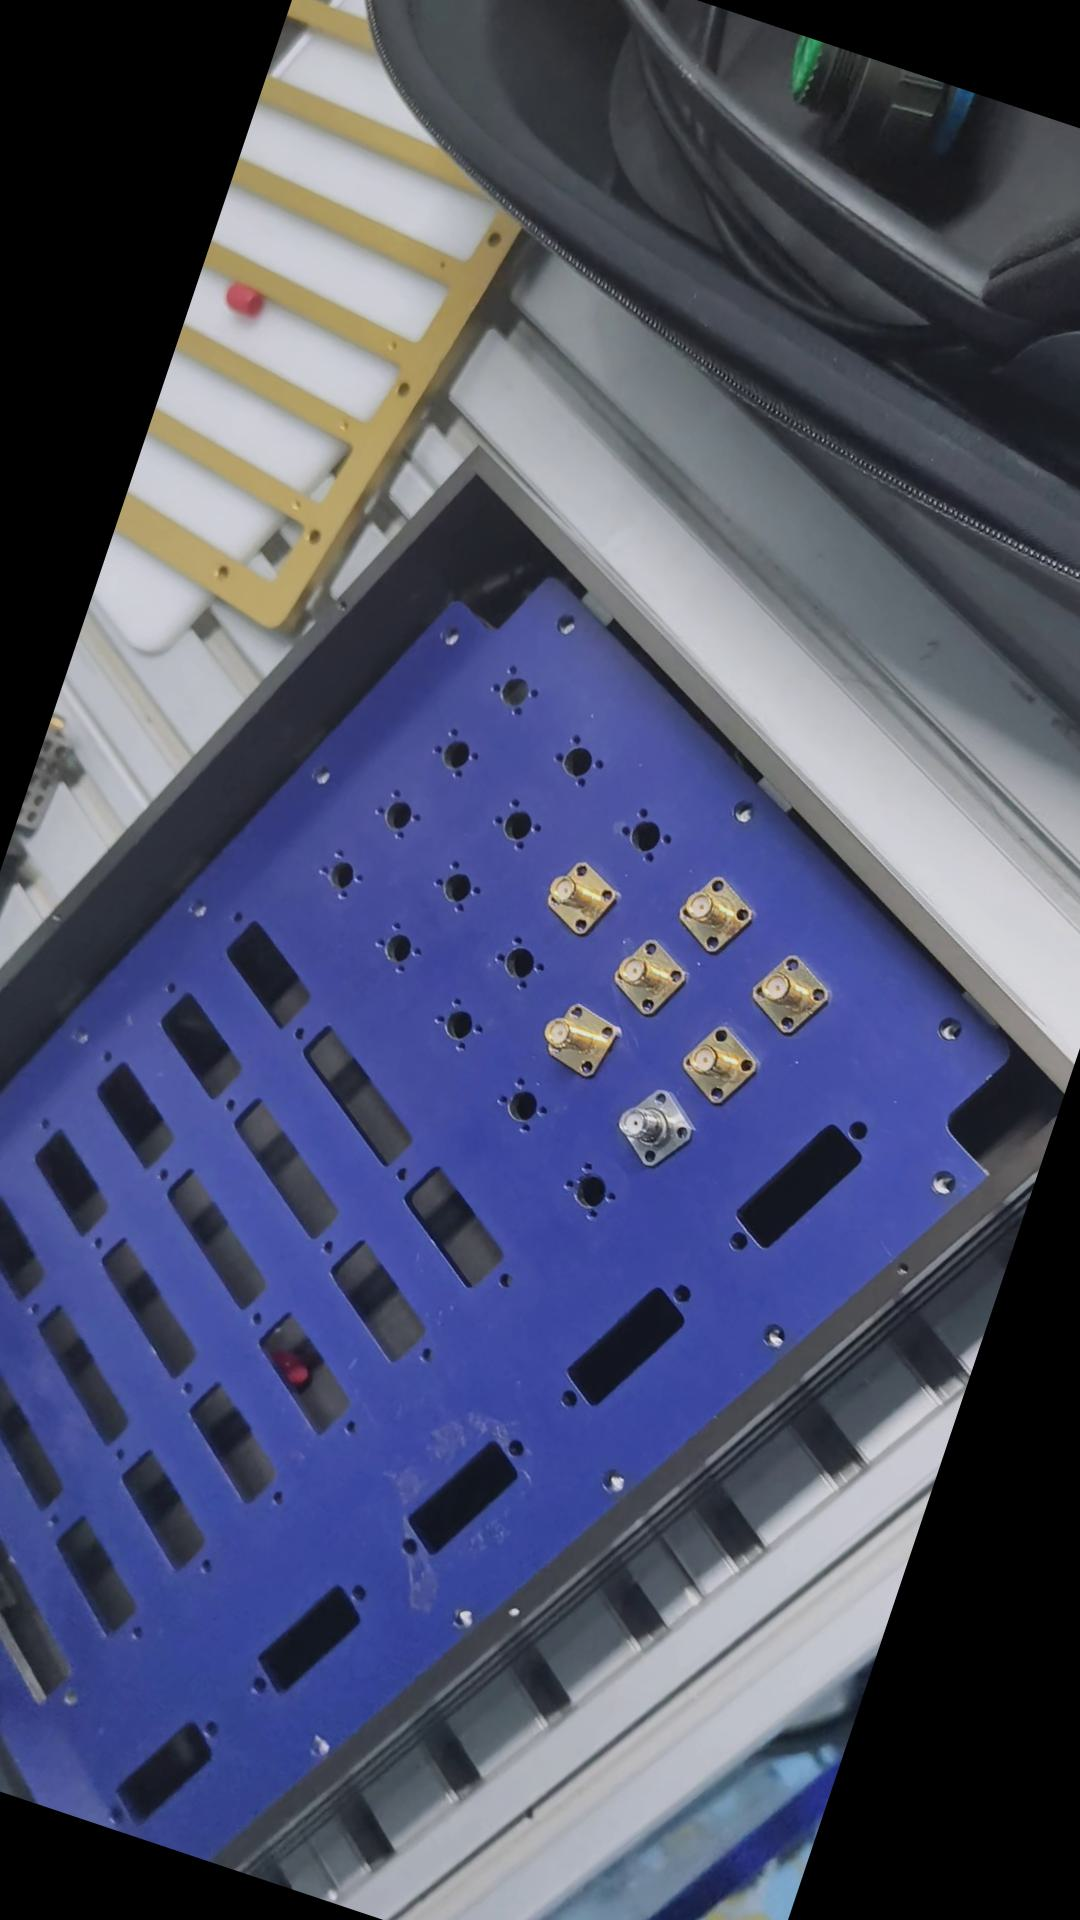SMA: (603, 1073, 705, 1175), (599, 926, 702, 1026), (530, 849, 630, 948), (669, 1015, 769, 1112), (737, 947, 837, 1040), (526, 988, 622, 1084), (665, 862, 760, 959)
